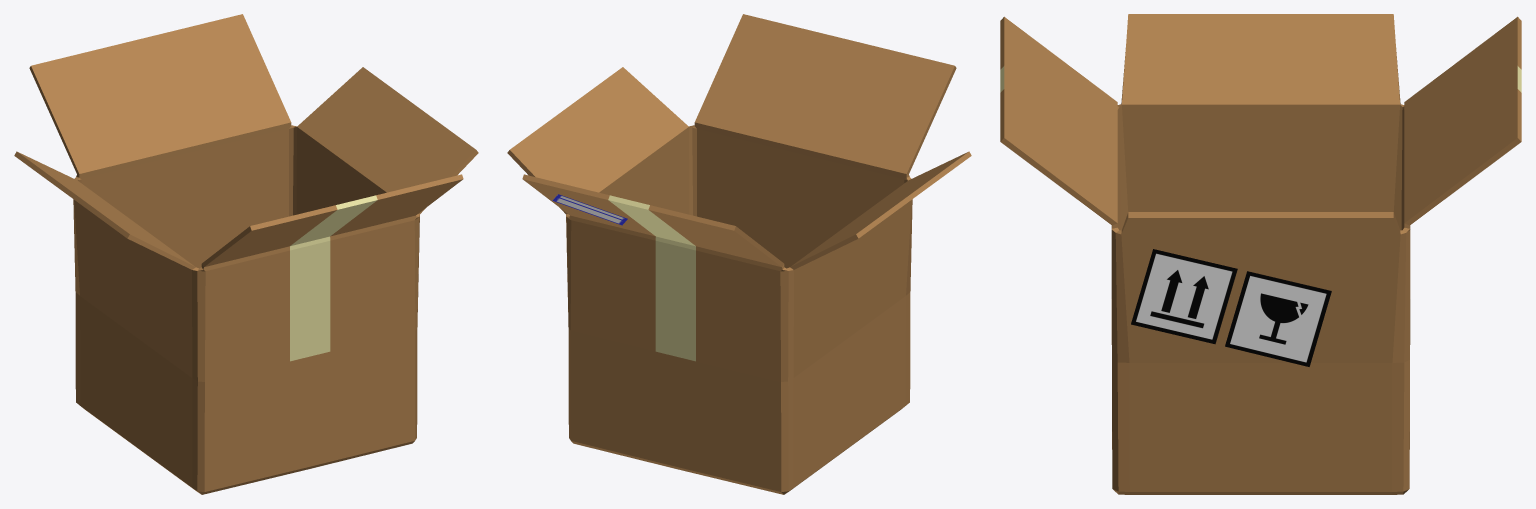
The model's file is Cardboard.027.gltf.
The picture shows the model from 3 angles, left to right: view 1: azimuth 30°, elevation 25°; view 2: azimuth 150°, elevation 25°; view 3: azimuth 270°, elevation 25°; orthographic projection. The views are drawn at different scales.
Parts seen in each view (by area): view 1: Cardboard.027; view 2: Cardboard.027, BlueSticker.012; view 3: Cardboard.027, sign4.013, sign2.018.
Boxes of the visible parts, box(x1,y1,x2,y2) form: Cardboard.027: box(14, 14, 478, 494); Cardboard.027: box(507, 14, 971, 494); BlueSticker.012: box(552, 194, 627, 225); Cardboard.027: box(1000, 14, 1521, 494); sign4.013: box(1225, 271, 1331, 366); sign2.018: box(1131, 249, 1237, 344).
Bounding box in the file's own units: 0.6056 × 0.5029 × 0.6638.
Materials: 5 (3 with a texture image).
